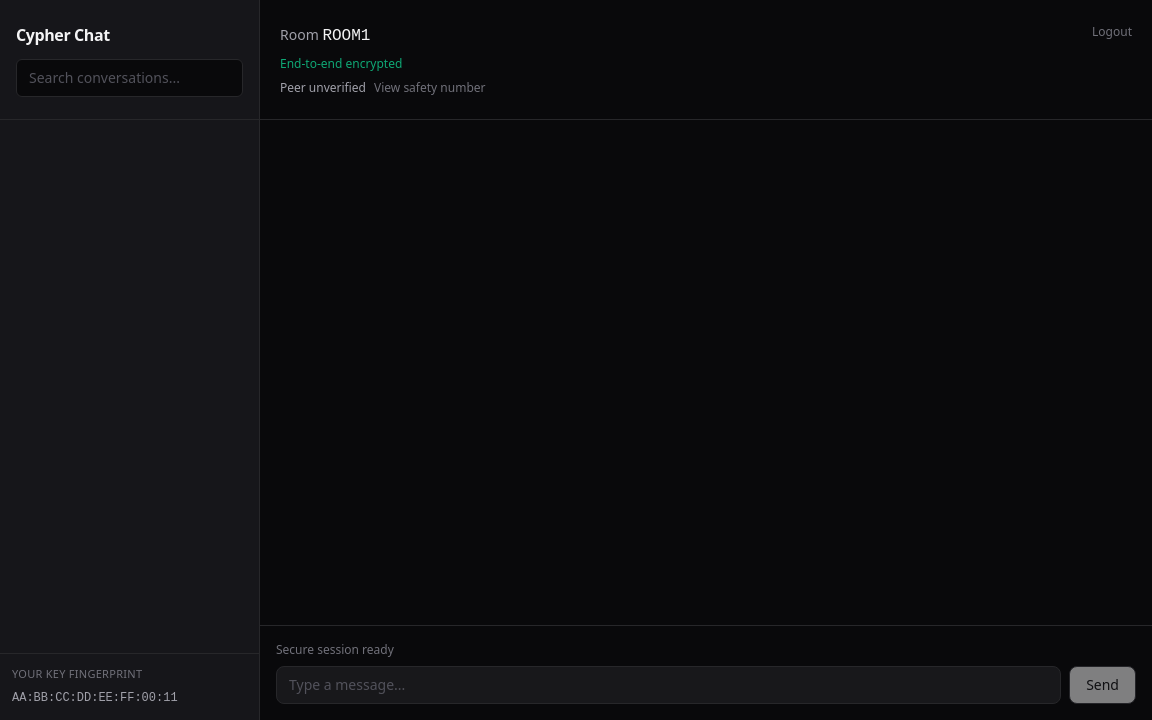
Test: ChatRoom integration › establishes a live session, sends ciphertext, and marks delivery
In the field with placeholder "Type a message...": (669, 685) [276, 666, 1061, 704], type "hello"
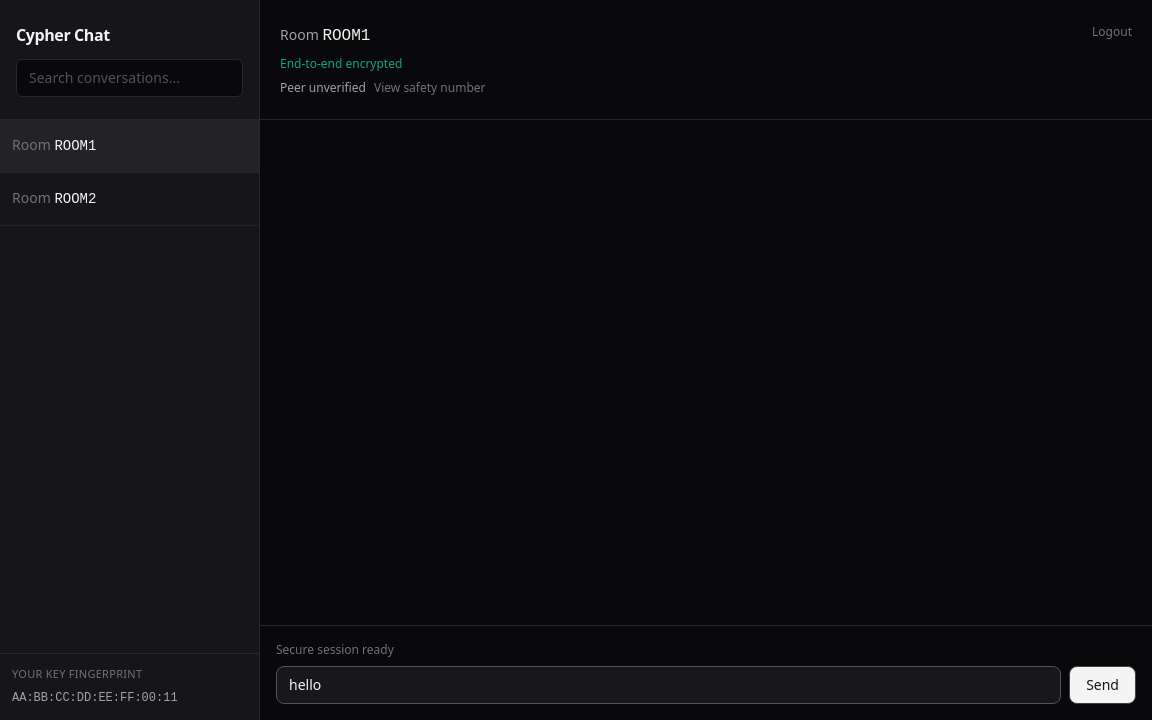
Click the button "Send": (1103, 685) [1069, 666, 1136, 704]
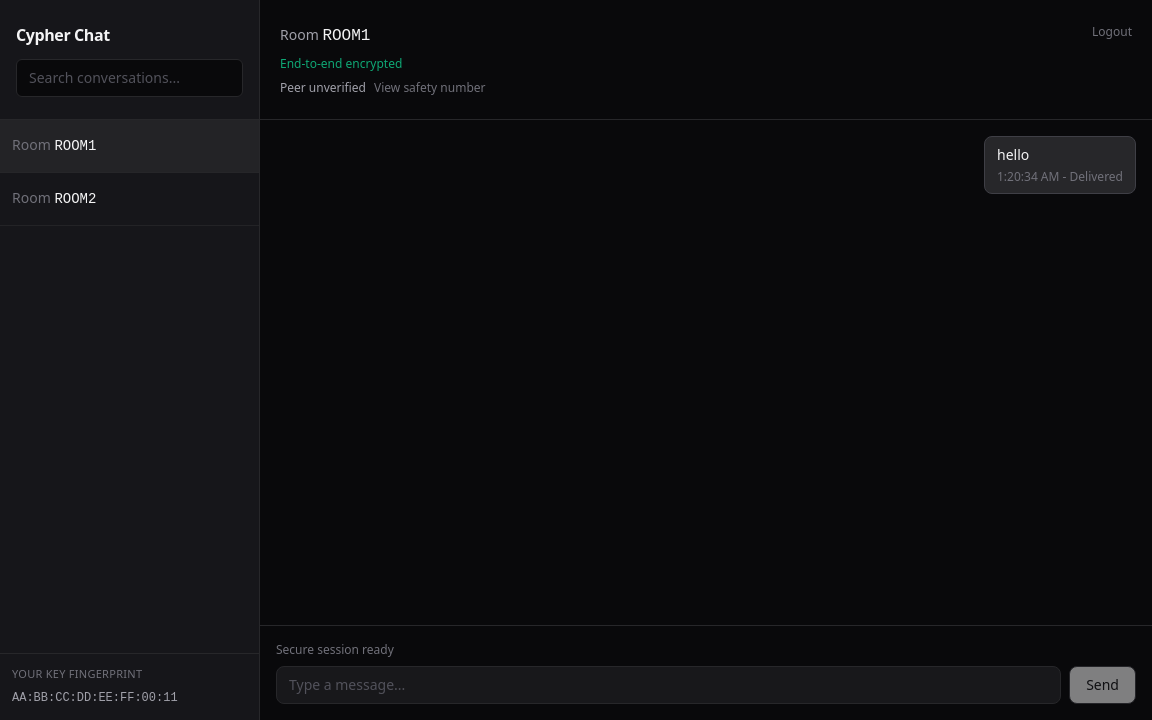
Result: the text "hello" is shown at [997, 145, 1029, 164]
Result: the text "1:20:34 AM - Delivered" is shown at [997, 169, 1123, 185]
